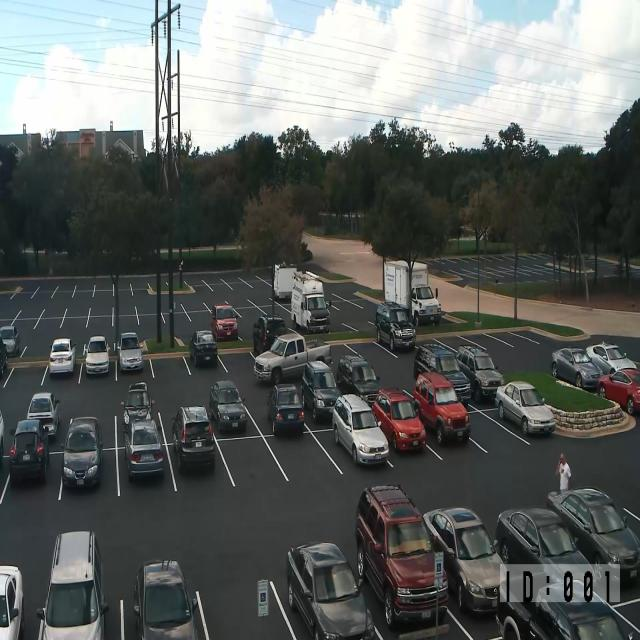car: (355, 484, 449, 630), (494, 506, 594, 603), (496, 574, 639, 640), (546, 486, 640, 584), (422, 506, 506, 615), (286, 541, 376, 639), (36, 530, 109, 639), (133, 558, 199, 640), (528, 598, 636, 640), (413, 371, 471, 446), (332, 393, 389, 466), (254, 332, 332, 384), (413, 344, 471, 409), (372, 388, 426, 452), (495, 380, 556, 436), (61, 415, 103, 489), (172, 405, 216, 473), (455, 345, 505, 403), (9, 418, 49, 482), (123, 418, 164, 480), (301, 360, 342, 422), (336, 354, 381, 407), (551, 346, 603, 391), (596, 367, 640, 415), (266, 383, 305, 437), (375, 301, 416, 351), (209, 380, 247, 432), (0, 564, 24, 640), (121, 381, 154, 433), (586, 341, 637, 374), (26, 392, 60, 439), (414, 342, 456, 379), (252, 314, 286, 354), (411, 283, 441, 327), (82, 335, 110, 376), (116, 332, 144, 372), (189, 329, 218, 367), (211, 303, 238, 342), (49, 337, 76, 375), (0, 325, 20, 356), (0, 337, 8, 378), (0, 409, 4, 467)
